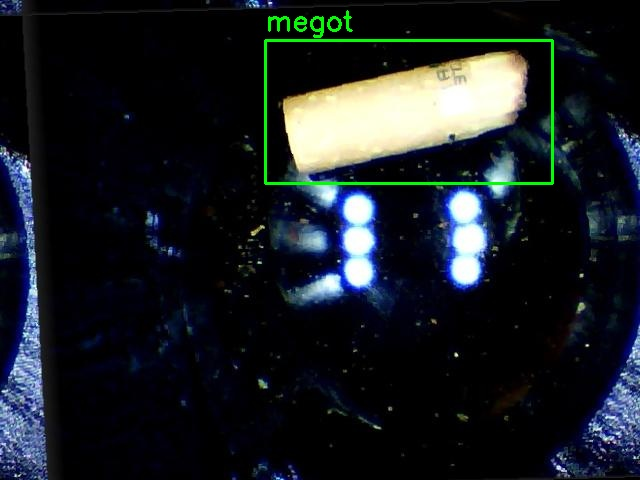megot: (265, 40, 552, 183)
